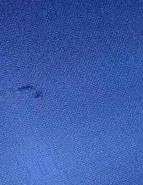knot: (15, 80, 46, 103)
